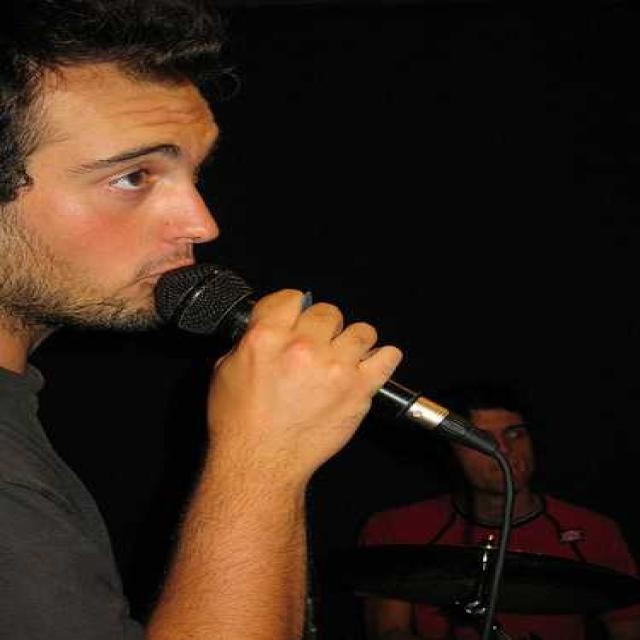microphone: (146, 261, 484, 455)
